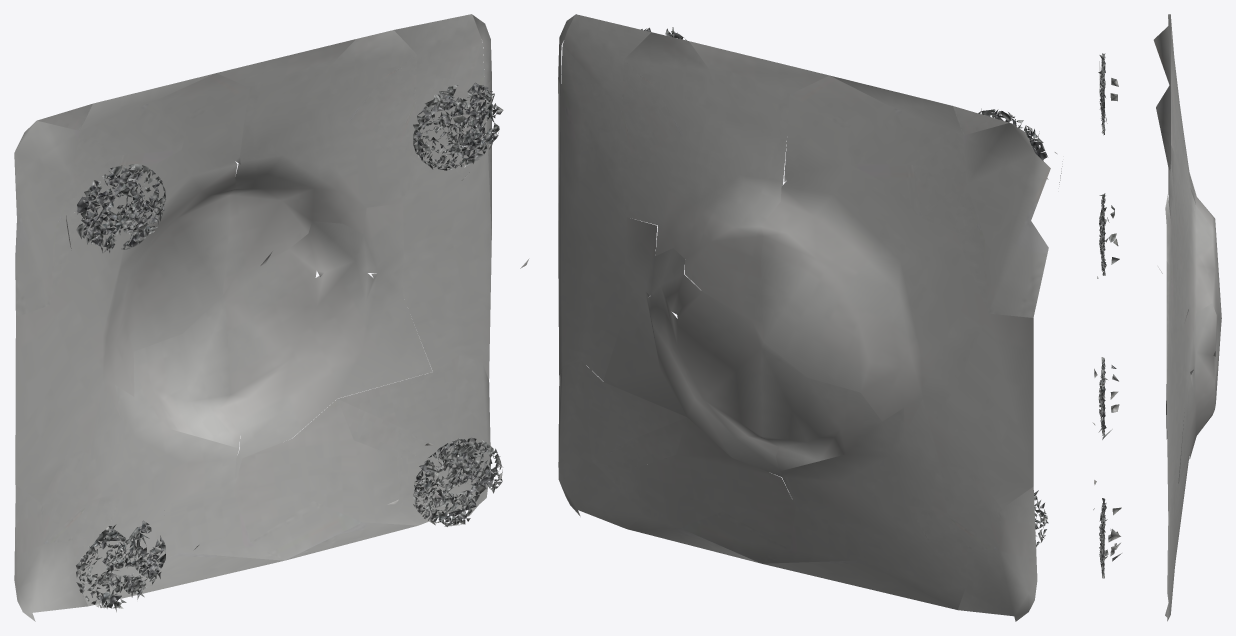
File: cabine-teto.glb
The picture shows the model from 3 angles, left to right: view 1: azimuth 30°, elevation 25°; view 2: azimuth 150°, elevation 25°; view 3: azimuth 270°, elevation 25°; orthographic projection. The views are drawn at different scales.
Parts seen in each view (by area): view 1: cabine-teto; view 2: cabine-teto; view 3: cabine-teto.
Part boxes in pixels (box(x1,y1,x2,y2)): cabine-teto: box(14, 14, 529, 621); cabine-teto: box(558, 14, 1062, 621); cabine-teto: box(1092, 14, 1221, 621).
Size of the model in its own units: 0.839 by 0.8351 by 0.2275.
1 material, 1 textured.
